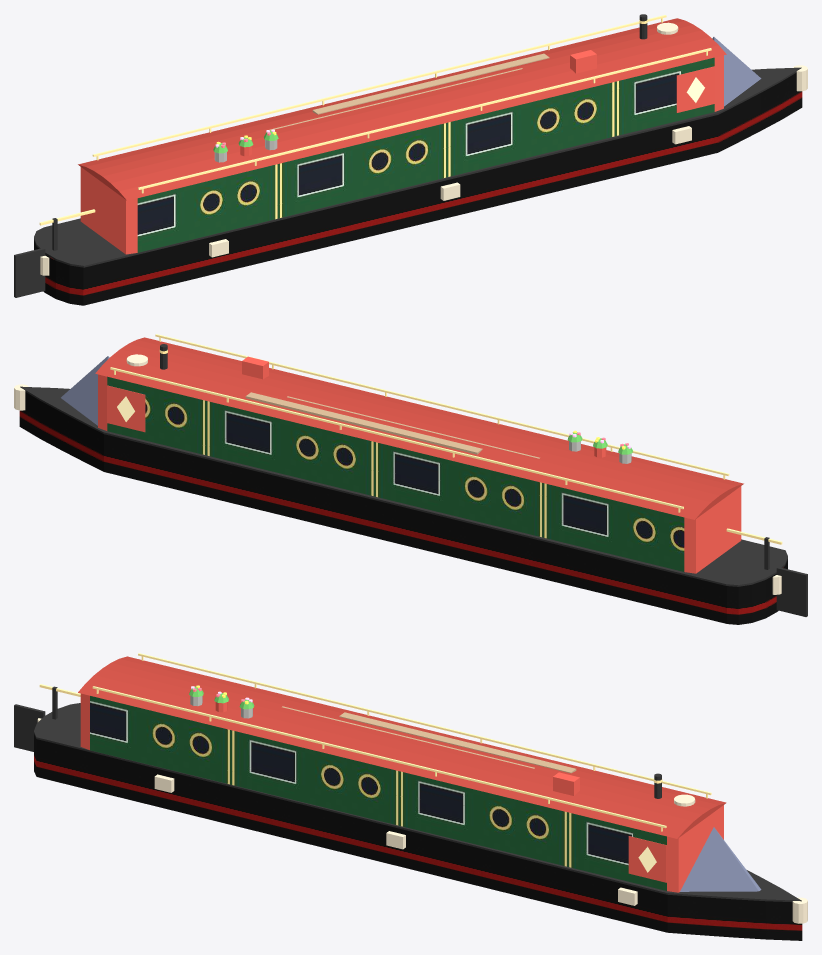
File: boat-1.glb
The picture shows the model from 3 angles, top to bottom: view 1: azimuth 30°, elevation 25°; view 2: azimuth 150°, elevation 25°; view 3: azimuth 330°, elevation 25°; orthographic projection.
Parts seen in each view (by area): view 1: Cabin, Hull, Roof, Gunwale, CabinEndF, Handrail, Plank, RopeCoil, Cratch; view 2: Cabin, Hull, Roof, Gunwale, CabinEndF, Handrail, Plank, Cratch, RopeCoil; view 3: Cabin, Hull, Roof, Gunwale, CabinEndF, Handrail, Cratch, Plank, RopeCoil.
Part boxes in pixels (left/top/right/bottom): Cabin: left=137, top=57, right=714, bottom=252; Hull: left=34, top=72, right=802, bottom=305; Roof: left=78, top=18, right=726, bottom=200; Gunwale: left=14, top=14, right=801, bottom=297; CabinEndF: left=80, top=50, right=723, bottom=254; Handrail: left=39, top=15, right=711, bottom=225; Plank: left=269, top=53, right=549, bottom=130; RopeCoil: left=40, top=22, right=807, bottom=275; Cratch: left=712, top=37, right=761, bottom=106; Cabin: left=107, top=376, right=684, bottom=571; Hull: left=19, top=392, right=787, bottom=624; Roof: left=95, top=337, right=743, bottom=519; Gunwale: left=20, top=344, right=807, bottom=616; CabinEndF: left=98, top=356, right=741, bottom=573; Handrail: left=110, top=334, right=782, bottom=544; Plank: left=245, top=392, right=539, bottom=458; Cratch: left=61, top=356, right=109, bottom=425; RopeCoil: left=14, top=354, right=781, bottom=594; Cabin: left=90, top=696, right=666, bottom=890; Hull: left=34, top=734, right=802, bottom=940; Roof: left=78, top=656, right=726, bottom=838; Gunwale: left=14, top=686, right=801, bottom=902; CabinEndF: left=80, top=693, right=723, bottom=892; Handrail: left=39, top=653, right=711, bottom=831; Cratch: left=680, top=827, right=761, bottom=891; Plank: left=282, top=706, right=576, bottom=773; RopeCoil: left=37, top=718, right=807, bottom=923.
Bounding box in the file's own units: 18.81 × 2.8 × 2.24.
15 materials, 2 textured.
